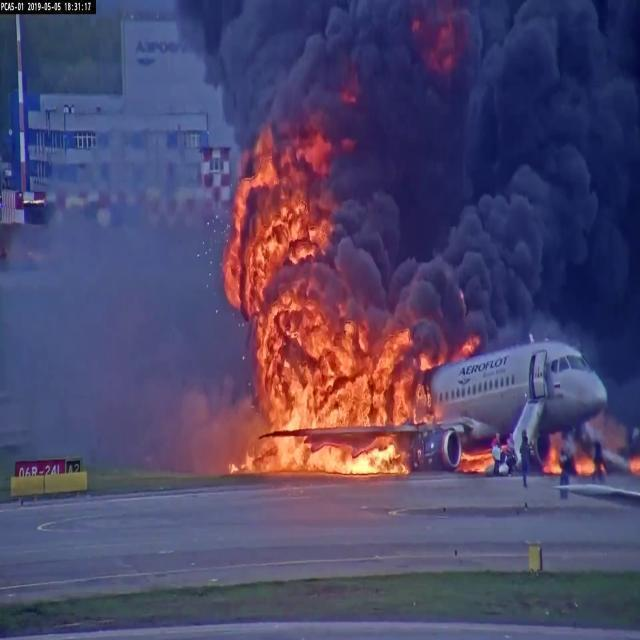Fire: (270, 328, 393, 428), (268, 439, 392, 472)
Smoke: (359, 3, 639, 281), (235, 0, 640, 114), (435, 149, 627, 331), (448, 141, 604, 280), (331, 190, 404, 299)
